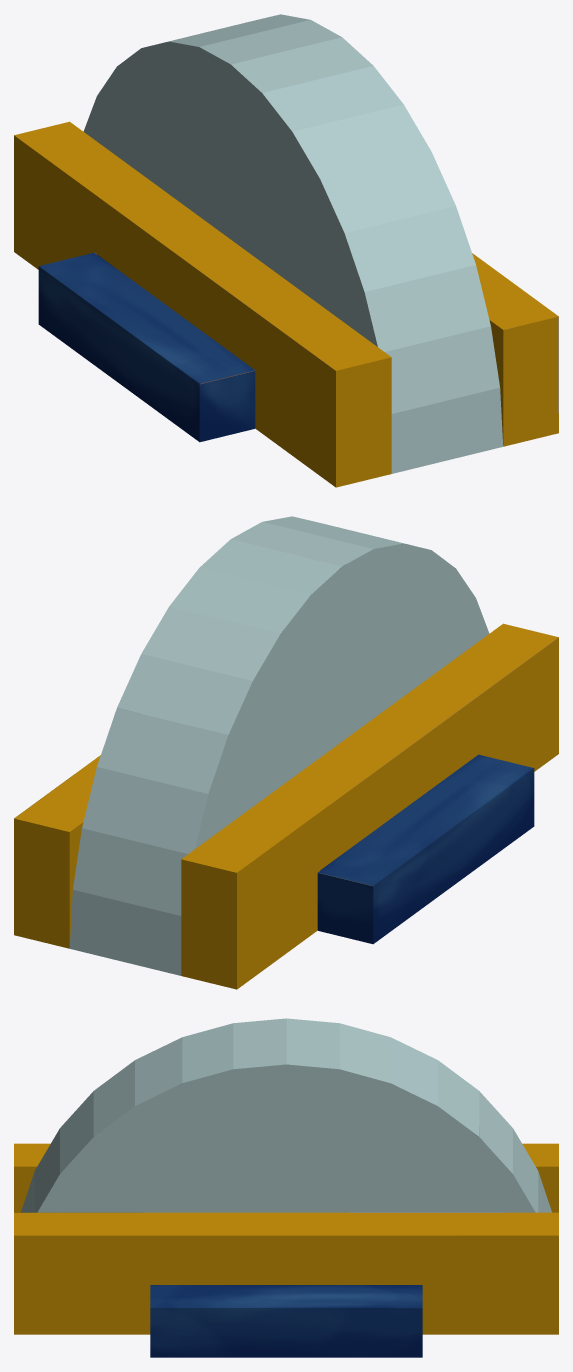
Rendered from lever_base.fbx.
3 views of the same model, one above another, from view 1: azimuth 30°, elevation 25°; view 2: azimuth 150°, elevation 25°; view 3: azimuth 270°, elevation 25° (orthographic). The views are drawn at different scales.
Parts seen in each view (by area): view 1: Lever; view 2: Lever; view 3: Lever.
Boxes of the visible parts, box(x1,y1,x2,y2) form: Lever: box(14, 14, 558, 487); Lever: box(14, 516, 558, 989); Lever: box(14, 1018, 558, 1357).
Bounding box in the file's own units: 120 × 100 × 200.
1 material, 1 textured.
